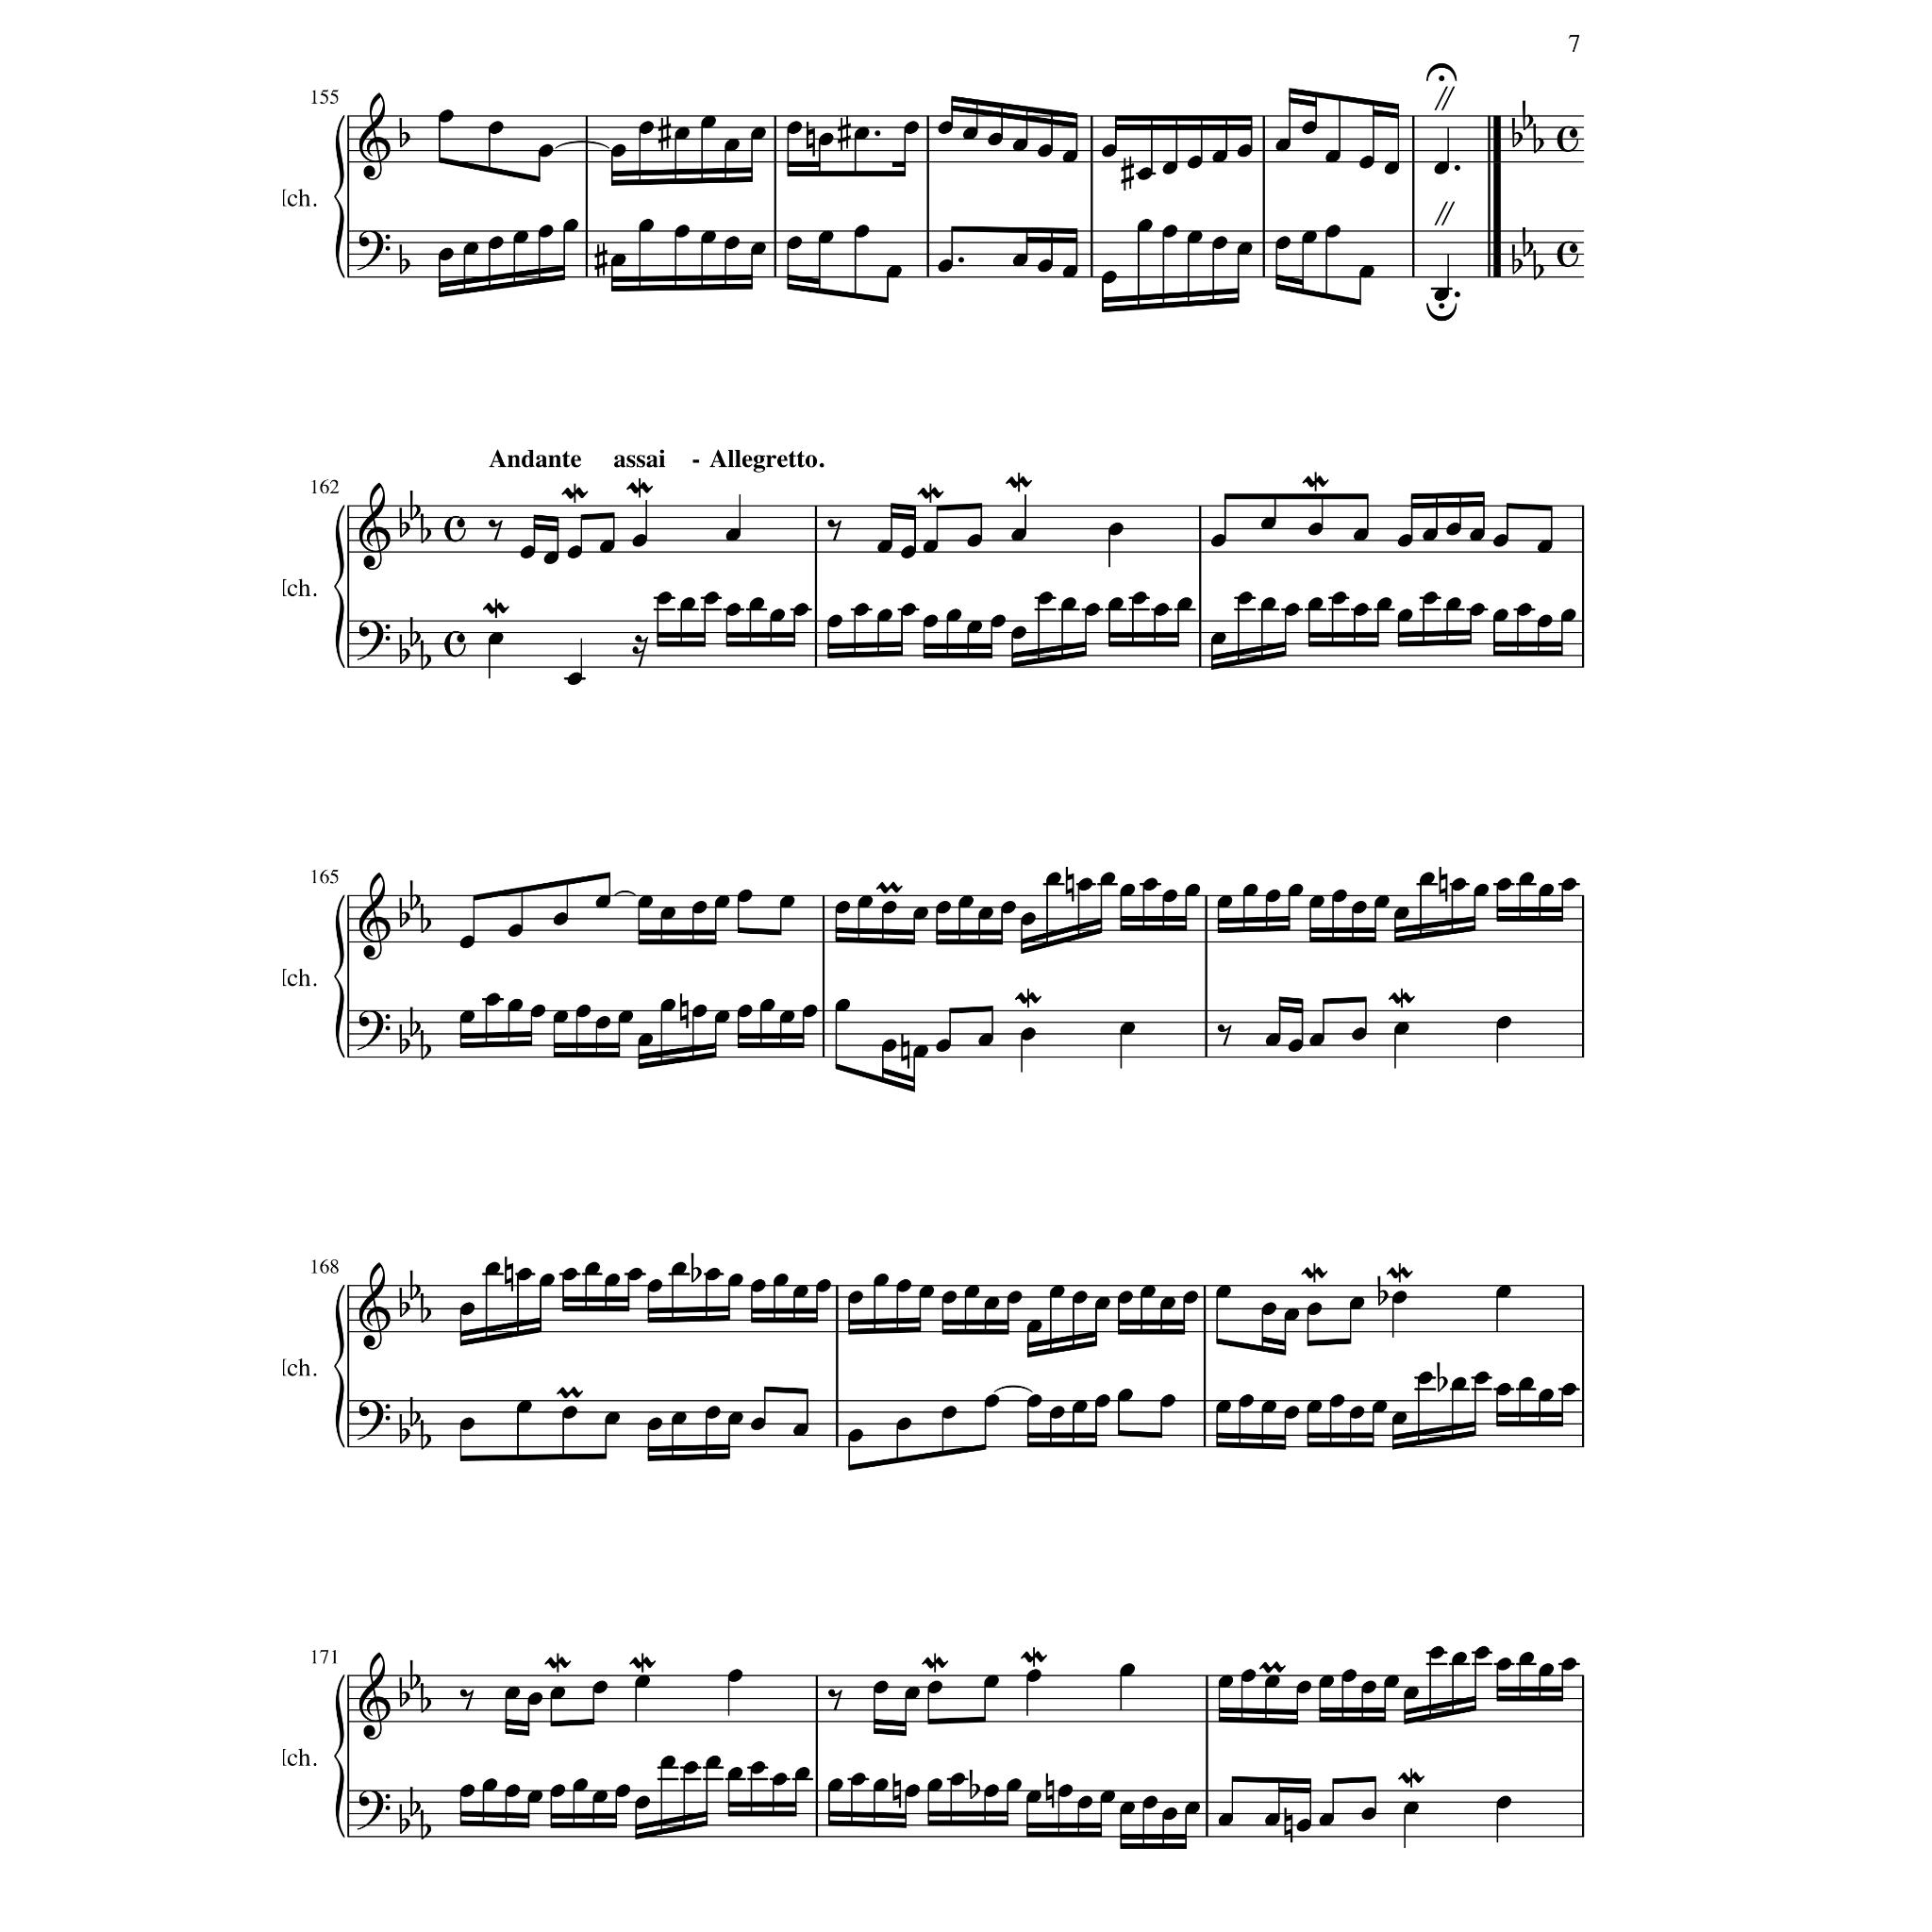brace: (333, 115, 345, 280), (333, 504, 345, 669), (333, 893, 345, 1058), (333, 1674, 345, 1838), (333, 1284, 345, 1447)
fClef: (357, 230, 391, 271), (357, 621, 391, 662), (357, 1010, 391, 1051), (357, 1790, 391, 1831), (357, 1401, 391, 1440)
gClef: (359, 481, 391, 571), (359, 1261, 391, 1352), (359, 92, 391, 180), (359, 872, 391, 961), (359, 1652, 391, 1741)
noteheadBlack: (1141, 878, 1159, 892), (1000, 901, 1017, 915), (1070, 1290, 1088, 1304), (1070, 1399, 1088, 1414), (1056, 1783, 1074, 1798), (1141, 1796, 1159, 1810), (1099, 1789, 1116, 1803), (872, 1778, 890, 1792), (872, 1681, 890, 1695), (1162, 161, 1178, 175), (1162, 225, 1178, 239), (1212, 150, 1228, 165), (1212, 237, 1228, 251), (1187, 230, 1203, 244), (987, 133, 1003, 147), (1012, 138, 1028, 152), (1012, 253, 1028, 267), (1062, 150, 1077, 165), (1062, 265, 1077, 280), (1433, 161, 1449, 175), (1384, 161, 1399, 175), (1302, 122, 1318, 136), (1302, 230, 1318, 244), (1276, 237, 1292, 251), (1276, 138, 1292, 152), (1359, 265, 1375, 280), (1325, 150, 1341, 165), (1325, 225, 1341, 239), (610, 253, 626, 267), (701, 230, 717, 244), (639, 122, 655, 136), (674, 225, 690, 239), (437, 110, 453, 124), (437, 248, 453, 262), (513, 230, 529, 244), (538, 225, 554, 239), (487, 122, 502, 136), (487, 237, 502, 251), (853, 225, 869, 239), (817, 230, 833, 244), (817, 133, 833, 147), (885, 265, 901, 280), (938, 122, 954, 136), (724, 237, 740, 251), (724, 138, 740, 152), (786, 122, 801, 136), (786, 237, 801, 251), (1260, 517, 1276, 531), (1237, 591, 1253, 605), (1330, 591, 1346, 605), (1307, 522, 1323, 536), (1131, 591, 1146, 605), (1037, 591, 1053, 605), (1210, 632, 1226, 646), (1210, 534, 1226, 548), (1560, 609, 1576, 623), (1493, 609, 1509, 623), (1422, 591, 1438, 605), (1396, 609, 1412, 623), (1396, 534, 1412, 548), (1493, 534, 1509, 548), (1445, 522, 1461, 536), (704, 591, 720, 605), (656, 591, 672, 605), (632, 534, 648, 548), (487, 632, 502, 646), (566, 672, 582, 686), (566, 545, 582, 559), (770, 609, 786, 623), (520, 545, 536, 559), (899, 545, 915, 559), (966, 534, 982, 548), (966, 621, 982, 635), (947, 609, 962, 623), (1010, 626, 1026, 640), (878, 609, 893, 623), (1265, 1033, 1281, 1047), (978, 906, 994, 920), (978, 1033, 994, 1047), (1120, 1021, 1136, 1035), (1077, 878, 1093, 892), (1560, 878, 1576, 892), (1352, 901, 1368, 915), (1309, 1033, 1325, 1047), (1451, 878, 1467, 892), (1394, 906, 1410, 920), (1394, 1021, 1410, 1035), (617, 1010, 633, 1024), (637, 1033, 653, 1047), (594, 1016, 610, 1030), (692, 901, 708, 915), (660, 906, 676, 920), (458, 1010, 474, 1024), (552, 1010, 568, 1024), (485, 993, 501, 1007), (881, 901, 897, 915), (936, 901, 952, 915), (913, 1044, 929, 1058), (913, 906, 929, 920), (778, 1010, 794, 1024), (835, 901, 851, 915), (1215, 1284, 1231, 1299), (1215, 1399, 1231, 1414), (1182, 1290, 1198, 1304), (1161, 1394, 1177, 1408), (1238, 1394, 1254, 1408), (1261, 1399, 1277, 1414), (1283, 1405, 1299, 1419), (1049, 1284, 1065, 1299), (1049, 1405, 1065, 1419), (1026, 1394, 1042, 1408), (1007, 1290, 1023, 1304), (1026, 1320, 1042, 1334), (1116, 1290, 1132, 1304), (1139, 1284, 1155, 1299), (1093, 1394, 1109, 1408), (1518, 1376, 1534, 1391), (1495, 1284, 1511, 1299), (1474, 1371, 1490, 1385), (1329, 1394, 1345, 1408), (1348, 1405, 1364, 1419), (1306, 1399, 1322, 1414), (1417, 1371, 1433, 1385), (1451, 1376, 1467, 1391), (1371, 1399, 1387, 1414), (1392, 1290, 1408, 1304), (671, 1261, 686, 1276), (704, 1405, 720, 1419), (515, 1399, 531, 1414), (485, 1261, 501, 1276), (984, 1394, 1000, 1408), (964, 1284, 980, 1299), (918, 1284, 934, 1299), (941, 1290, 957, 1304), (941, 1405, 957, 1419), (793, 1284, 809, 1299), (847, 1290, 863, 1304), (1217, 1674, 1233, 1688), (1295, 1681, 1311, 1695), (1295, 1819, 1311, 1833), (1265, 1674, 1281, 1688), (1240, 1668, 1256, 1683), (1026, 1789, 1042, 1803), (1026, 1668, 1042, 1683), (1007, 1778, 1023, 1792), (1077, 1796, 1093, 1810), (1537, 1663, 1553, 1677), (1474, 1645, 1490, 1660), (1341, 1668, 1357, 1683), (1361, 1681, 1376, 1695), (1318, 1674, 1334, 1688), (1430, 1645, 1445, 1660), (1384, 1674, 1399, 1688), (593, 1681, 609, 1695), (593, 1789, 609, 1803), (614, 1783, 630, 1798), (550, 1783, 566, 1798), (706, 1755, 722, 1769), (660, 1755, 676, 1769), (635, 1796, 651, 1810), (635, 1674, 651, 1688), (458, 1783, 474, 1798), (527, 1789, 543, 1803), (683, 1760, 699, 1775), (504, 1783, 520, 1798), (481, 1778, 497, 1792), (904, 1783, 920, 1798), (984, 1783, 1000, 1798), (984, 1674, 1000, 1688), (727, 1668, 743, 1683), (927, 1778, 943, 1792), (927, 1681, 943, 1695), (826, 1778, 842, 1792), (750, 1760, 766, 1775), (1468, 603, 1486, 616), (1468, 529, 1486, 541), (1184, 885, 1201, 897), (957, 895, 975, 908), (1099, 872, 1116, 885), (1184, 1801, 1201, 1813), (904, 122, 918, 136), (1109, 522, 1123, 536), (1497, 878, 1511, 892), (1497, 1016, 1511, 1030), (715, 1010, 729, 1024), (586, 1261, 600, 1276), (563, 1405, 577, 1419), (1120, 1663, 1134, 1677), (1497, 1796, 1511, 1810), (573, 1778, 587, 1792), (1237, 242, 1253, 255), (1237, 145, 1253, 157), (1136, 219, 1152, 232), (1136, 168, 1152, 180), (1187, 156, 1203, 168), (1037, 145, 1053, 157), (1037, 260, 1053, 272), (962, 127, 978, 140), (1100, 271, 1116, 283), (1100, 145, 1116, 157), (1433, 288, 1449, 301), (1359, 156, 1375, 168), (563, 219, 579, 232), (610, 145, 626, 157), (701, 117, 717, 129), (639, 219, 655, 232), (674, 127, 690, 140), (538, 145, 554, 157), (464, 242, 479, 255), (853, 127, 869, 140), (938, 260, 954, 272), (750, 242, 766, 255), (750, 127, 766, 140), (1260, 598, 1276, 610), (1307, 598, 1323, 610), (1352, 529, 1368, 541), (1352, 603, 1368, 616), (1284, 603, 1300, 616), (1085, 603, 1100, 616), (1062, 598, 1077, 610), (1177, 598, 1192, 610), (1154, 603, 1169, 616), (1537, 616, 1553, 628), (1537, 540, 1553, 552), (1516, 603, 1532, 616), (1422, 529, 1438, 541), (1376, 598, 1392, 610), (1445, 598, 1461, 610), (679, 598, 695, 610), (600, 540, 616, 552), (748, 598, 764, 610), (793, 603, 809, 616), (725, 603, 741, 616), (725, 529, 741, 541), (543, 552, 559, 564), (922, 540, 938, 552), (899, 603, 915, 616), (991, 616, 1007, 628), (922, 616, 938, 628), (826, 616, 842, 628), (878, 540, 893, 552), (853, 603, 869, 616), (1010, 529, 1026, 541), (1217, 895, 1233, 908), (1162, 890, 1178, 902), (1242, 885, 1258, 897), (1265, 890, 1281, 902), (1288, 1040, 1304, 1053), (1288, 885, 1304, 897), (1021, 1028, 1037, 1040), (1021, 913, 1037, 925), (1120, 885, 1136, 897), (1046, 872, 1062, 885), (1518, 872, 1534, 885), (1537, 885, 1553, 897), (1474, 885, 1490, 897), (1332, 890, 1348, 902), (1352, 1028, 1368, 1040), (1309, 895, 1325, 908), (1419, 872, 1435, 885), (1375, 895, 1391, 908), (637, 895, 653, 908), (575, 1005, 591, 1017), (594, 895, 610, 908), (692, 1005, 708, 1017), (660, 1000, 676, 1012), (458, 936, 474, 948), (529, 1005, 545, 1017), (552, 913, 568, 925), (508, 925, 524, 938), (508, 1000, 524, 1012), (856, 895, 872, 908), (881, 1040, 897, 1053), (936, 1040, 952, 1053), (778, 895, 794, 908), (835, 1000, 851, 1012), (759, 1000, 775, 1012), (736, 1005, 752, 1017), (736, 890, 752, 902), (801, 1005, 817, 1017), (1161, 1297, 1177, 1309), (1261, 1302, 1277, 1315), (1283, 1309, 1299, 1322), (1116, 1389, 1132, 1401), (1093, 1297, 1109, 1309), (1537, 1389, 1553, 1401), (1560, 1384, 1576, 1396), (1495, 1384, 1511, 1396), (1348, 1297, 1364, 1309), (1306, 1302, 1322, 1315), (1392, 1412, 1408, 1424), (626, 1269, 642, 1281), (648, 1279, 663, 1292), (648, 1417, 663, 1430), (605, 1274, 621, 1286), (605, 1412, 621, 1424), (727, 1274, 743, 1286), (727, 1412, 743, 1424), (671, 1412, 686, 1424), (704, 1269, 720, 1281), (458, 1417, 474, 1430), (458, 1302, 474, 1315), (538, 1274, 554, 1286), (515, 1269, 531, 1281), (895, 1279, 911, 1292), (895, 1417, 911, 1430), (984, 1297, 1000, 1309), (773, 1274, 789, 1286), (793, 1424, 809, 1437), (750, 1279, 766, 1292), (750, 1417, 766, 1430), (847, 1430, 863, 1442), (816, 1279, 832, 1292), (1217, 1813, 1233, 1826), (1265, 1813, 1281, 1826), (1518, 1652, 1534, 1665), (1560, 1658, 1576, 1670), (1361, 1808, 1376, 1821), (1318, 1813, 1334, 1826), (1451, 1652, 1467, 1665), (1403, 1801, 1419, 1813), (1403, 1686, 1419, 1698), (550, 1686, 566, 1698), (527, 1693, 543, 1706), (504, 1686, 520, 1698), (904, 1686, 920, 1698), (849, 1773, 865, 1785), (950, 1773, 966, 1785), (794, 1767, 810, 1780), (771, 1773, 787, 1785), (727, 1767, 743, 1780), (1109, 598, 1123, 610), (715, 895, 729, 908), (563, 1269, 577, 1281), (874, 1274, 888, 1286), (1120, 1801, 1134, 1813), (1162, 1808, 1177, 1821), (1497, 1658, 1511, 1670)
rest16th: (632, 635, 648, 667)
rest8th: (488, 520, 502, 543), (828, 520, 842, 543), (1217, 1024, 1231, 1047), (460, 1688, 474, 1711), (828, 1688, 842, 1711)
